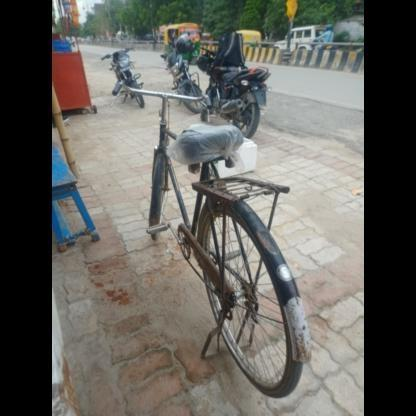Bicycle: (88, 73, 329, 410)
